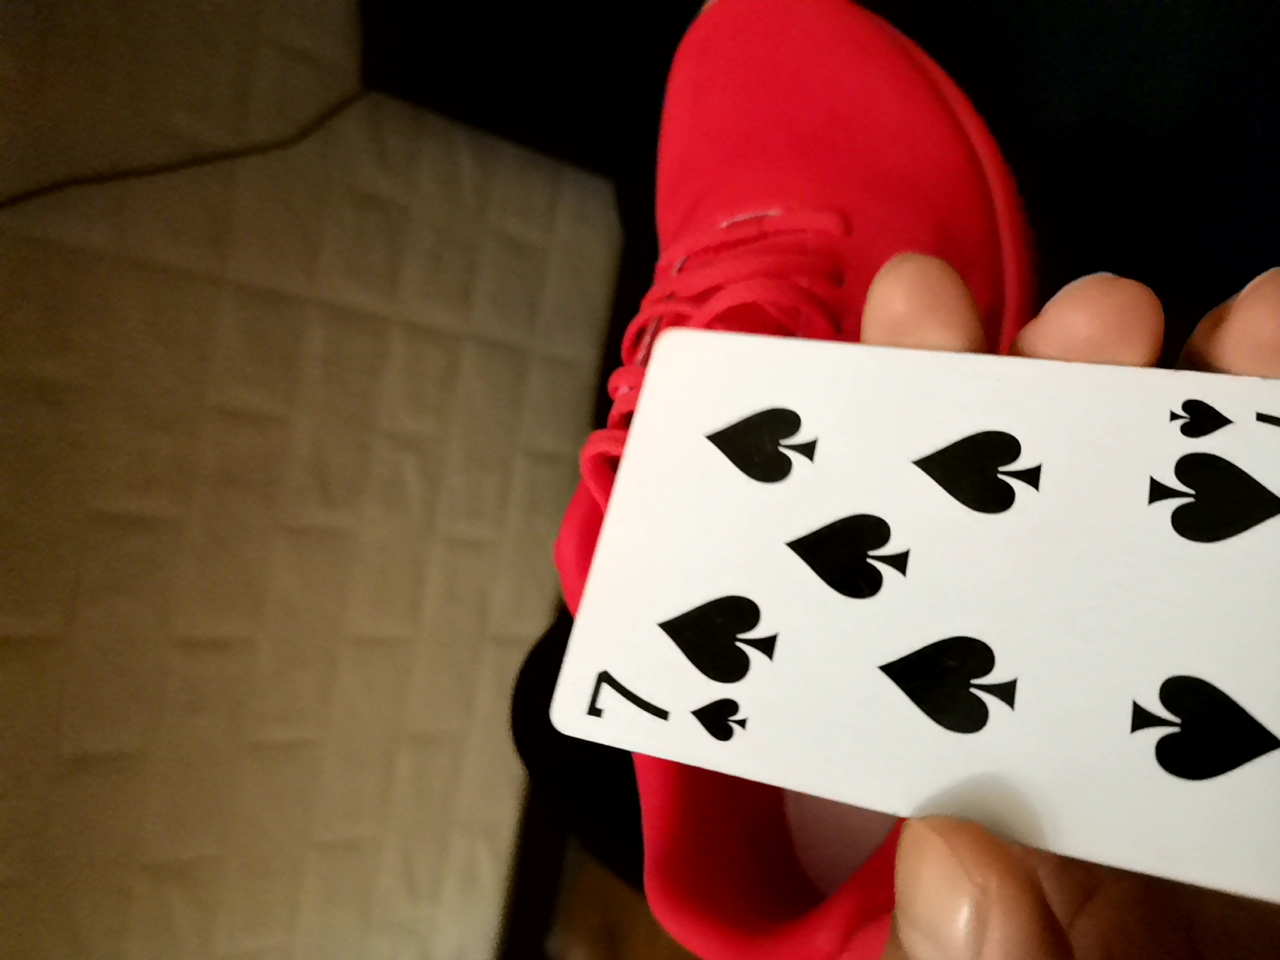ht 7: (511, 290, 1270, 925)
